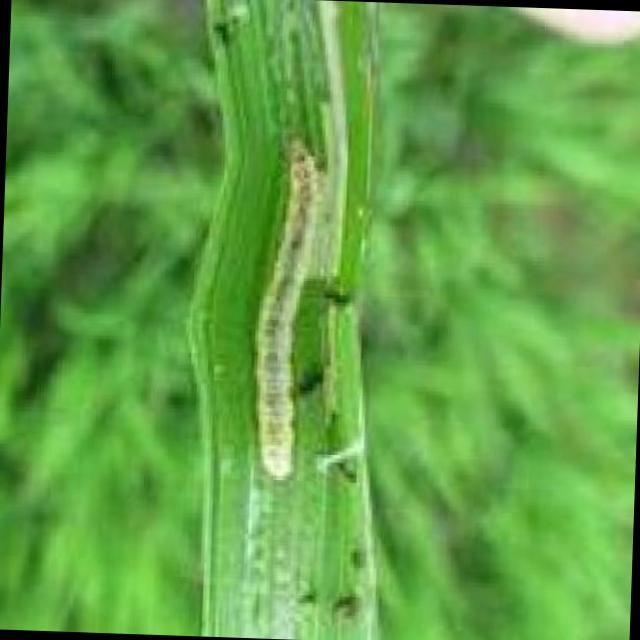leaf-folder: (228, 130, 328, 487)
